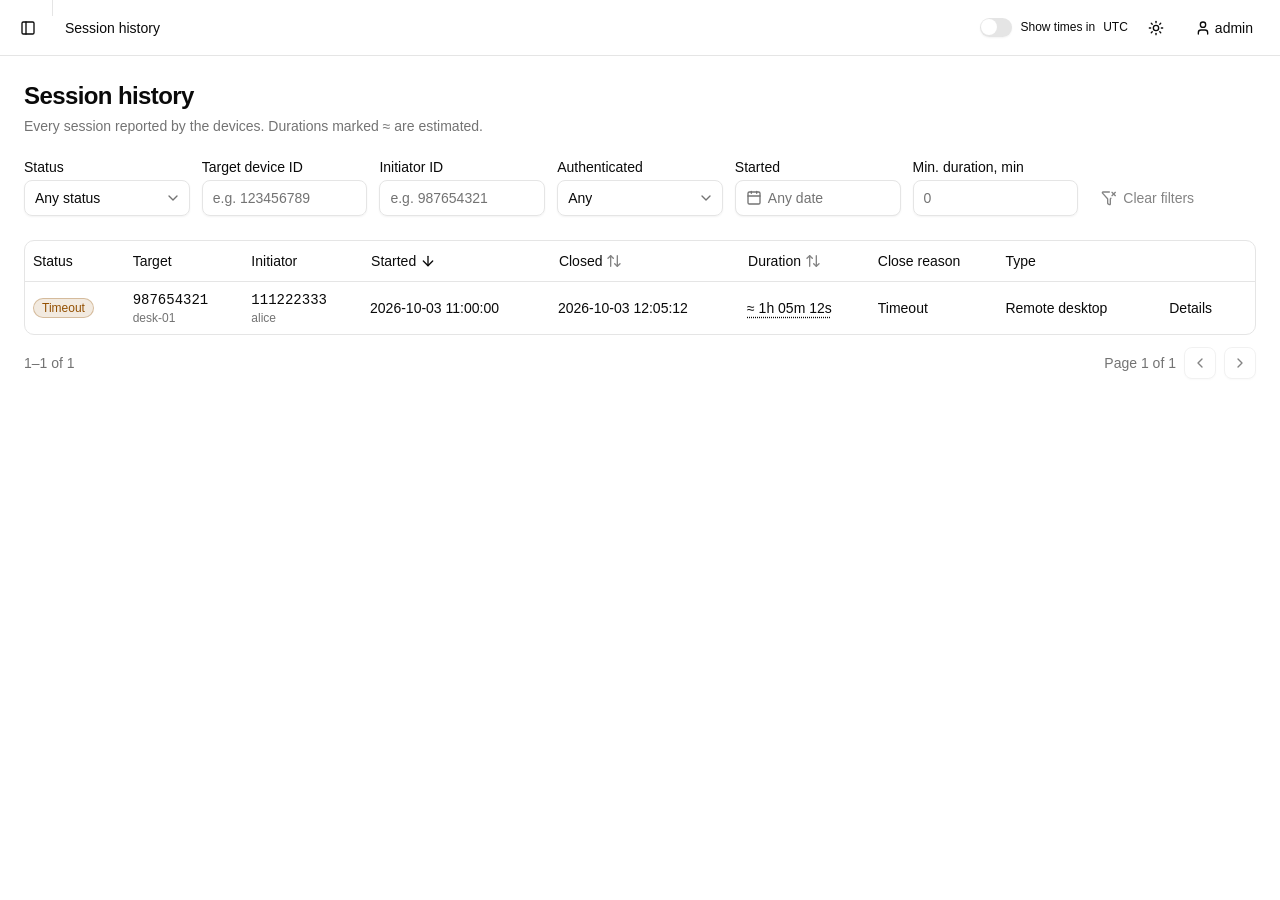
Test: session history › lists every disconnect request of a session, newest first
Click the button with aria-label "Details of session" at [1191, 308], box [1158,292,1223,324]
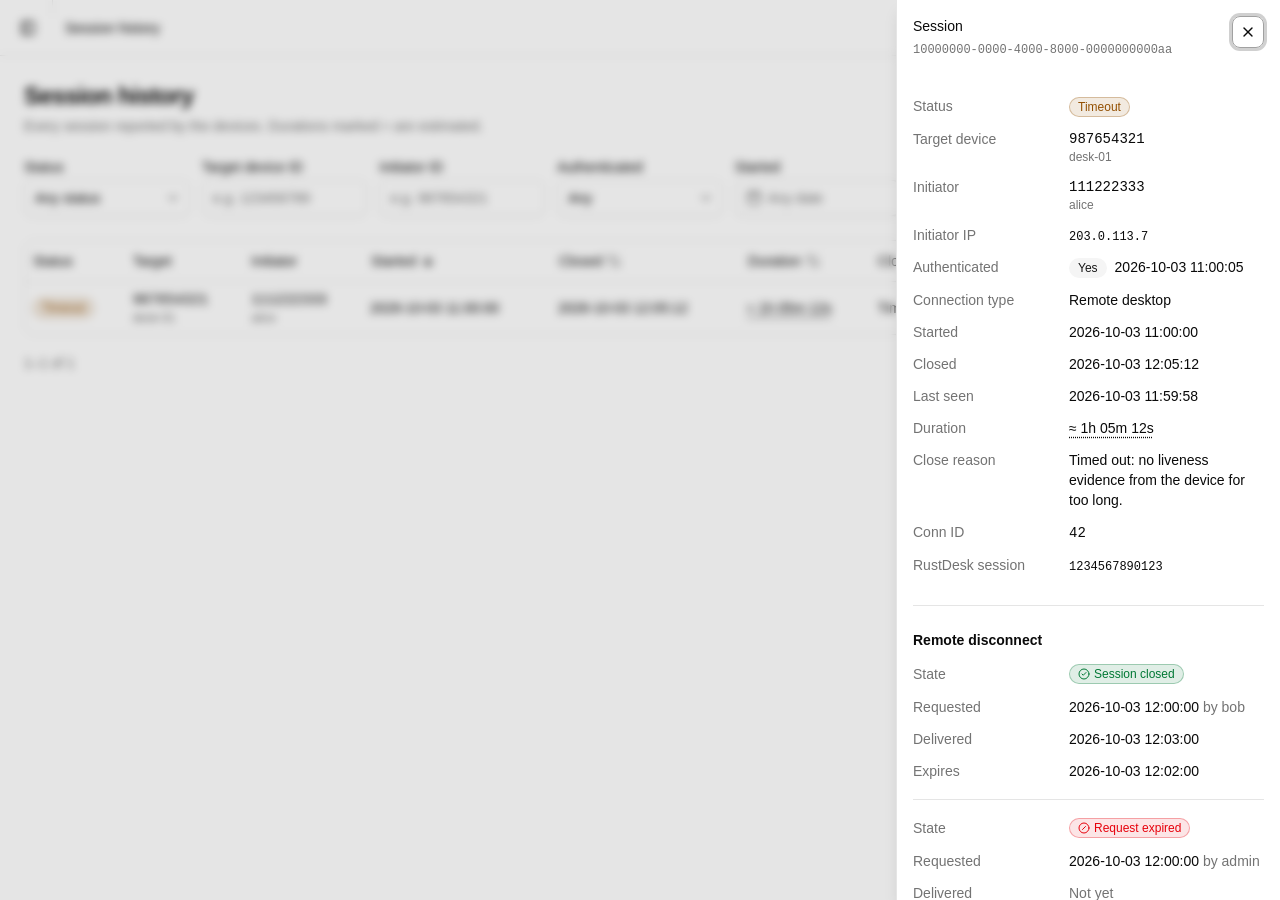
Now the text "Session closed" is shown, box [1069,664,1184,684]
Now the text "by bob" is shown, box [1199,699,1245,715]
Now the text "Request expired" is shown, box [1069,818,1190,838]
